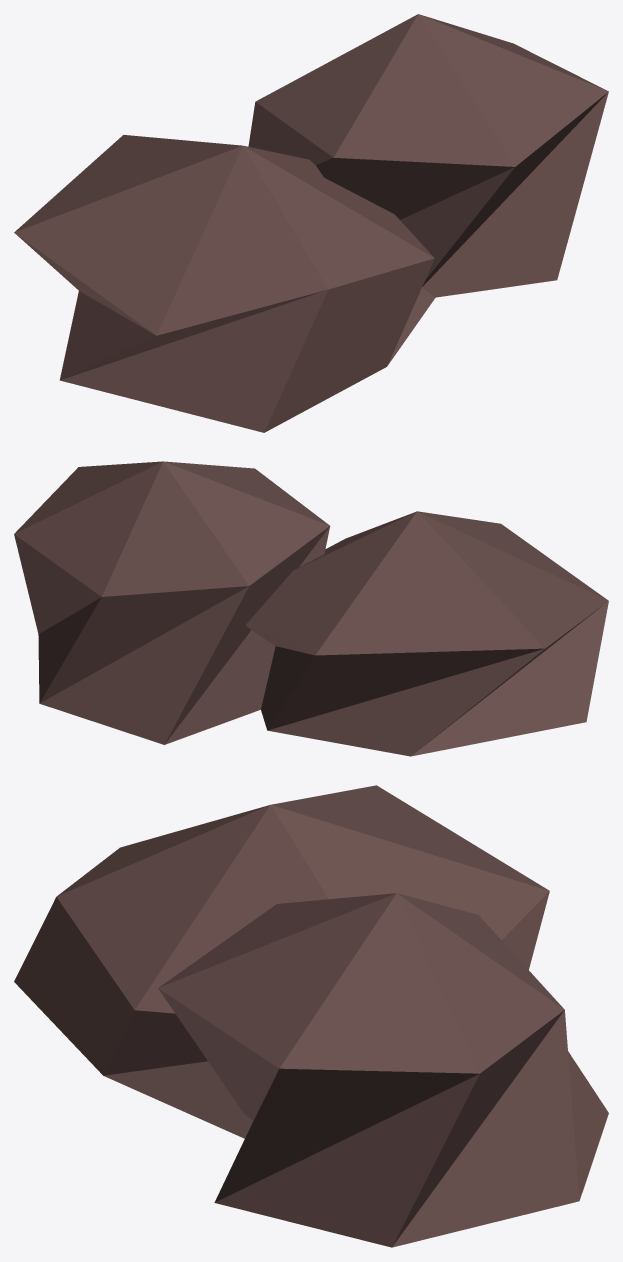
Rendered from item_rm_bioferrite_b.obj.
3 renders of one model, top to bottom at view 1: azimuth 30°, elevation 25°; view 2: azimuth 150°, elevation 25°; view 3: azimuth 270°, elevation 25°, orthographic. The views are drawn at different scales.
Bounding box in the file's own units: 0.8987 × 0.3504 × 0.6933.
